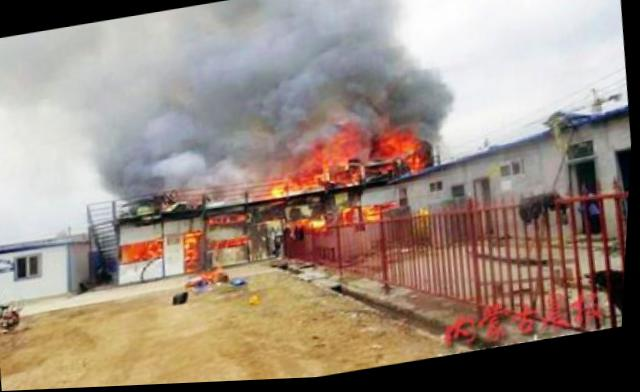fire: (379, 129, 419, 162), (326, 133, 365, 165), (120, 238, 165, 263), (294, 143, 330, 174), (182, 230, 205, 272), (291, 169, 322, 192), (269, 179, 294, 201), (300, 215, 329, 233), (363, 205, 383, 223)
smoke: (77, 0, 460, 180), (0, 24, 99, 194)
